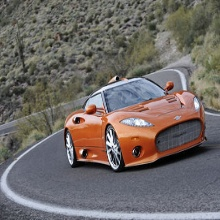no damage: (64, 75, 206, 172)
